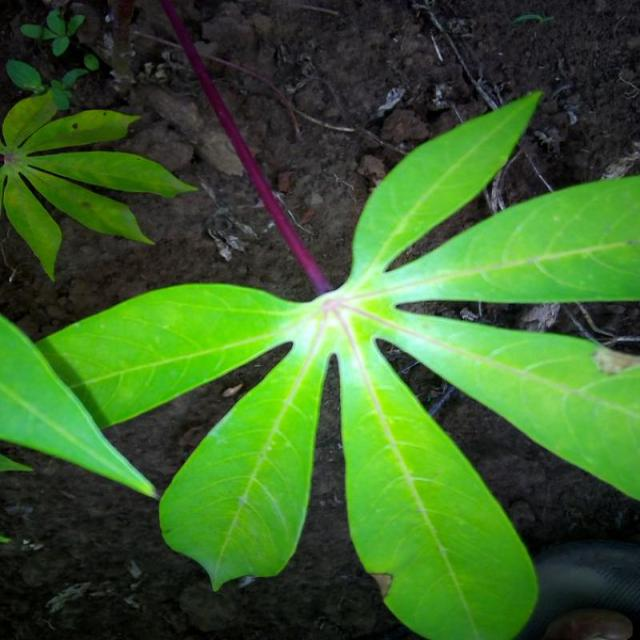cassava leaf: (1, 9, 638, 638), (0, 88, 198, 282), (0, 311, 158, 500)
